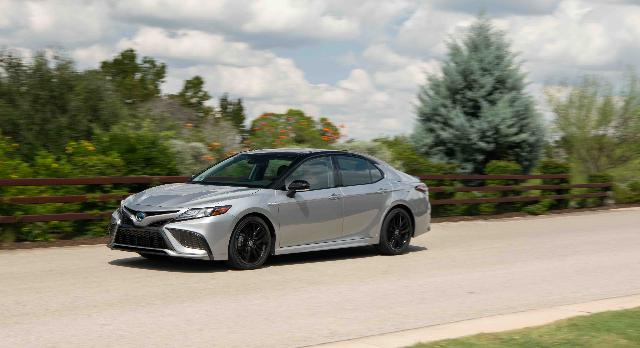toyota: (106, 148, 432, 270)
